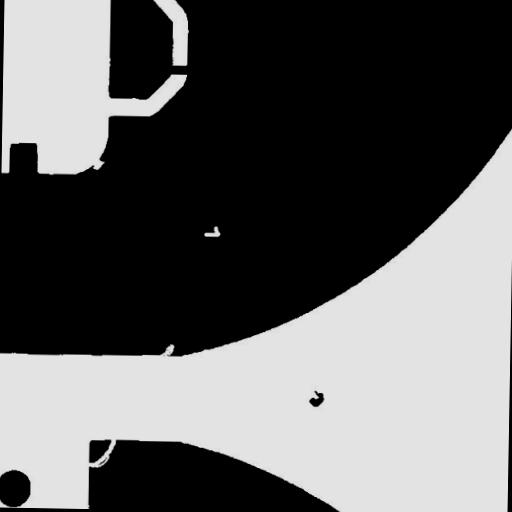copper: (302, 382, 332, 414)
mousebite: (149, 336, 182, 366), (83, 151, 112, 177)
open: (74, 426, 124, 476)
pin-hole: (196, 218, 228, 244)
short: (158, 56, 200, 82)
